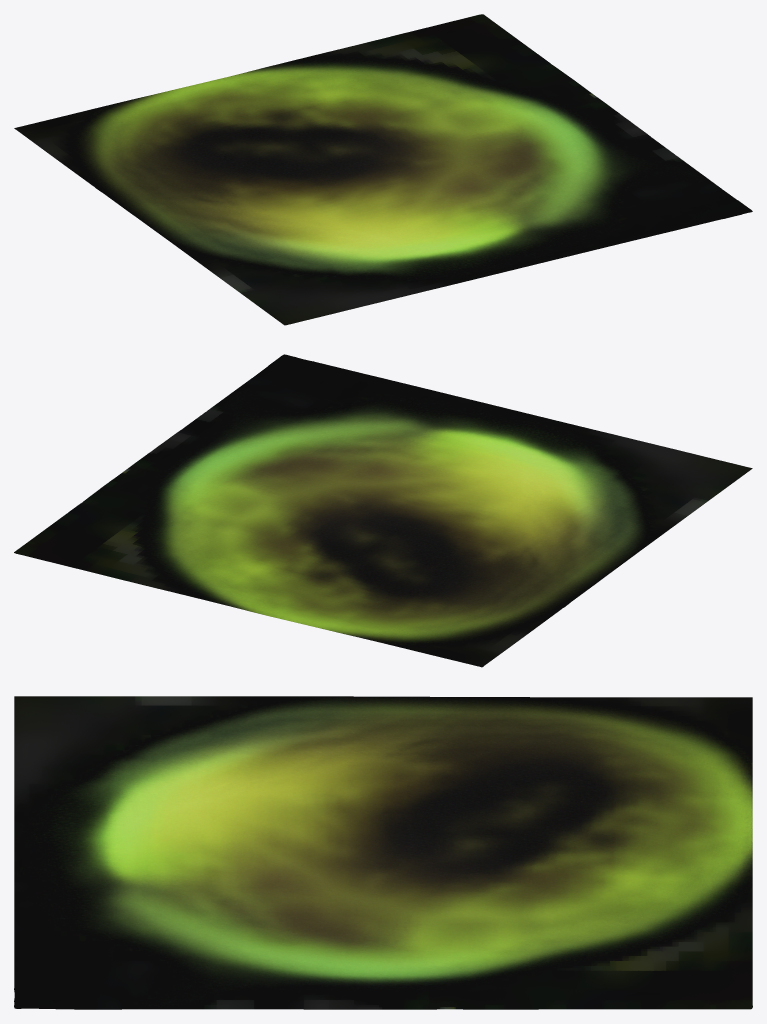
The model's file is trellis_result.glb.
The picture shows the model from 3 angles, top to bottom: view 1: azimuth 30°, elevation 25°; view 2: azimuth 150°, elevation 25°; view 3: azimuth 270°, elevation 25°; orthographic projection. The views are drawn at different scales.
Visible parts, largest first — view 1: world; view 2: world; view 3: world.
Part boxes in pixels (x1,y1,x2,y2): world: [14, 14, 752, 325]; world: [14, 354, 752, 667]; world: [14, 696, 752, 1009].
Bounding box in the file's own units: 1 × 0.00558 × 1.
Materials: 1 (1 with a texture image).
